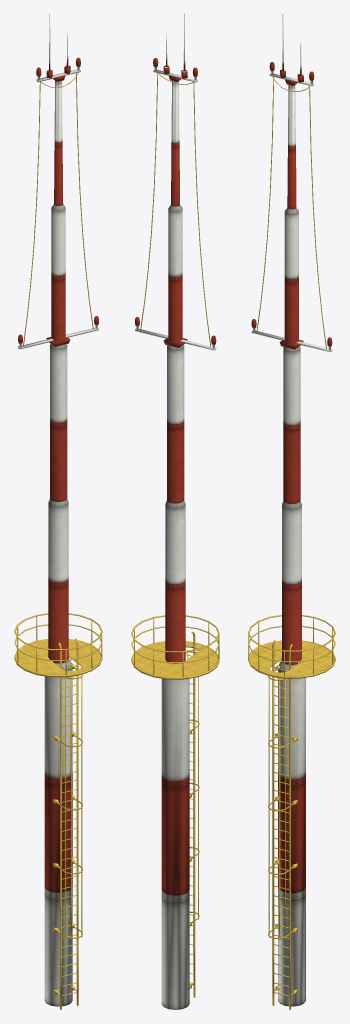
Rendered from arieals_2.obj.
3 renders of one model, left to right at view 1: azimuth 30°, elevation 25°; view 2: azimuth 150°, elevation 25°; view 3: azimuth 330°, elevation 25°, orthographic.
Visible parts, largest first — view 1: arieals_2.obj; view 2: arieals_2.obj; view 3: arieals_2.obj.
Part boxes in pixels (box(x1,y1,x2,y2)): arieals_2.obj: box(14, 14, 102, 1009); arieals_2.obj: box(131, 14, 219, 1009); arieals_2.obj: box(248, 14, 335, 1009).
Bounding box in the file's own units: 3.15 × 36.95 × 2.99.
2 materials, 2 textured.
